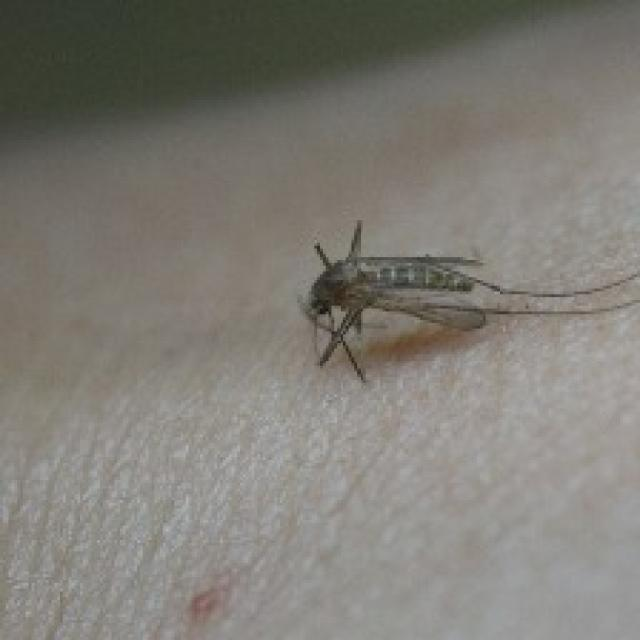culex: (294, 217, 637, 383)
